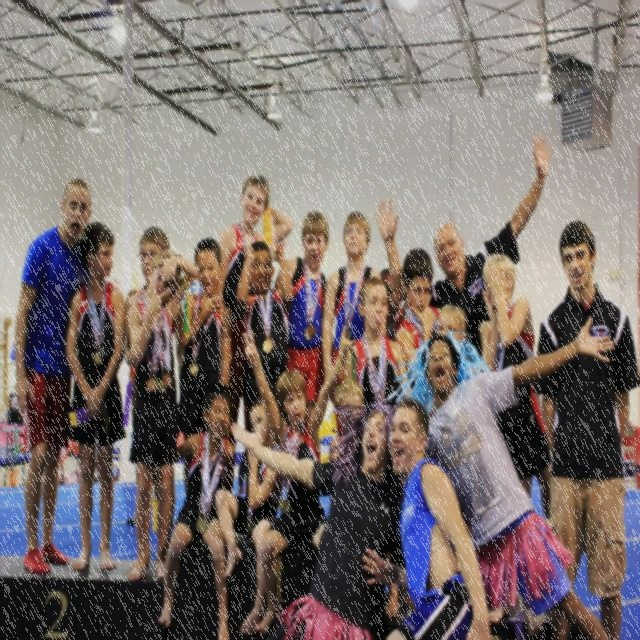pessoa: (421, 316, 617, 638), (530, 220, 640, 640), (228, 409, 406, 639), (374, 132, 554, 356), (238, 322, 360, 636), (10, 176, 103, 577), (361, 396, 494, 639), (126, 246, 200, 584), (64, 220, 128, 574), (214, 175, 292, 442), (156, 380, 235, 640), (212, 396, 282, 638), (271, 208, 337, 424), (322, 209, 384, 438), (479, 252, 534, 500), (230, 240, 296, 412), (178, 236, 232, 440), (344, 276, 412, 406), (124, 224, 172, 368), (396, 248, 439, 363), (328, 376, 366, 462), (434, 304, 466, 348), (126, 284, 145, 304), (126, 505, 136, 528)
